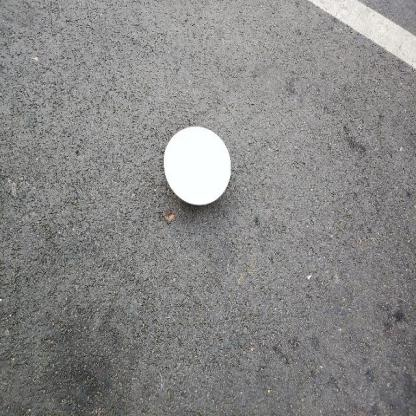Glass Cup: (164, 126, 230, 207), (164, 126, 231, 205)
